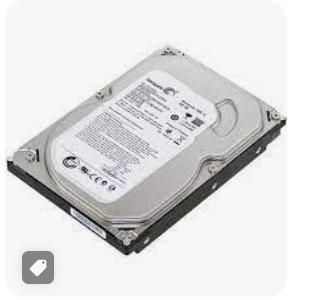internal HDD: (13, 47, 284, 256)
